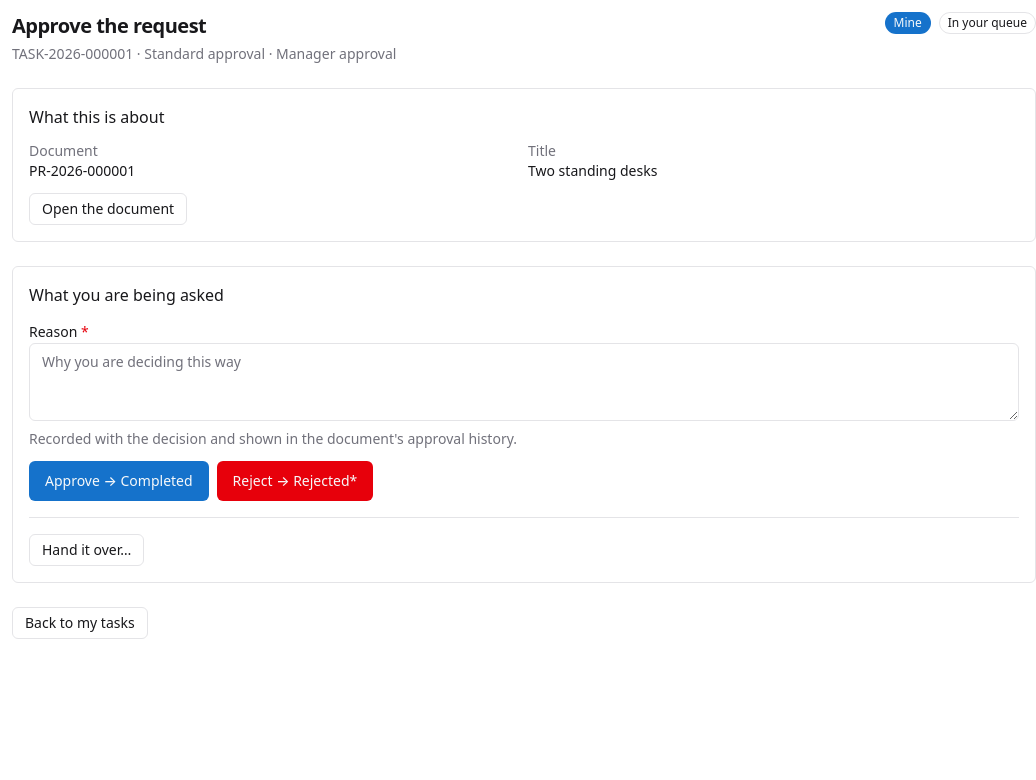
TaskDetailPage › says why the picker is empty when the caller cannot read users
This screenshot has width=1036, height=780.
Click the button with test id "start-hand-over": (87, 550) [29,534,144,566]
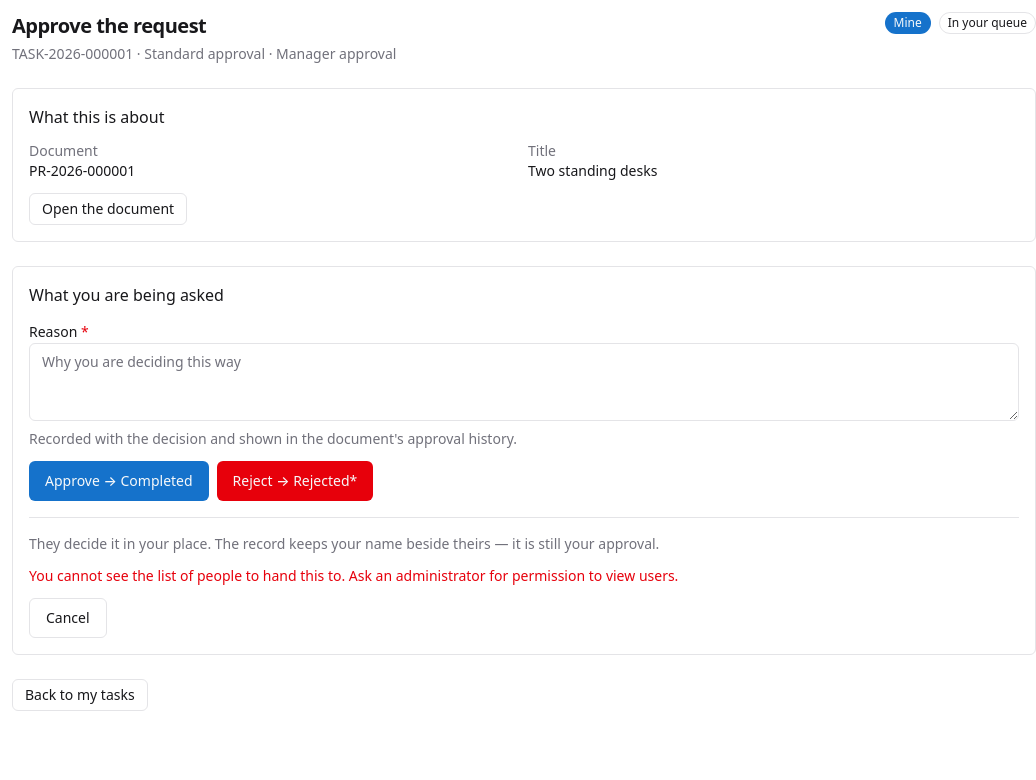
Result: the text with test id "hand-over-unavailable" shows "permission to view users" at [29,566,678,585]
